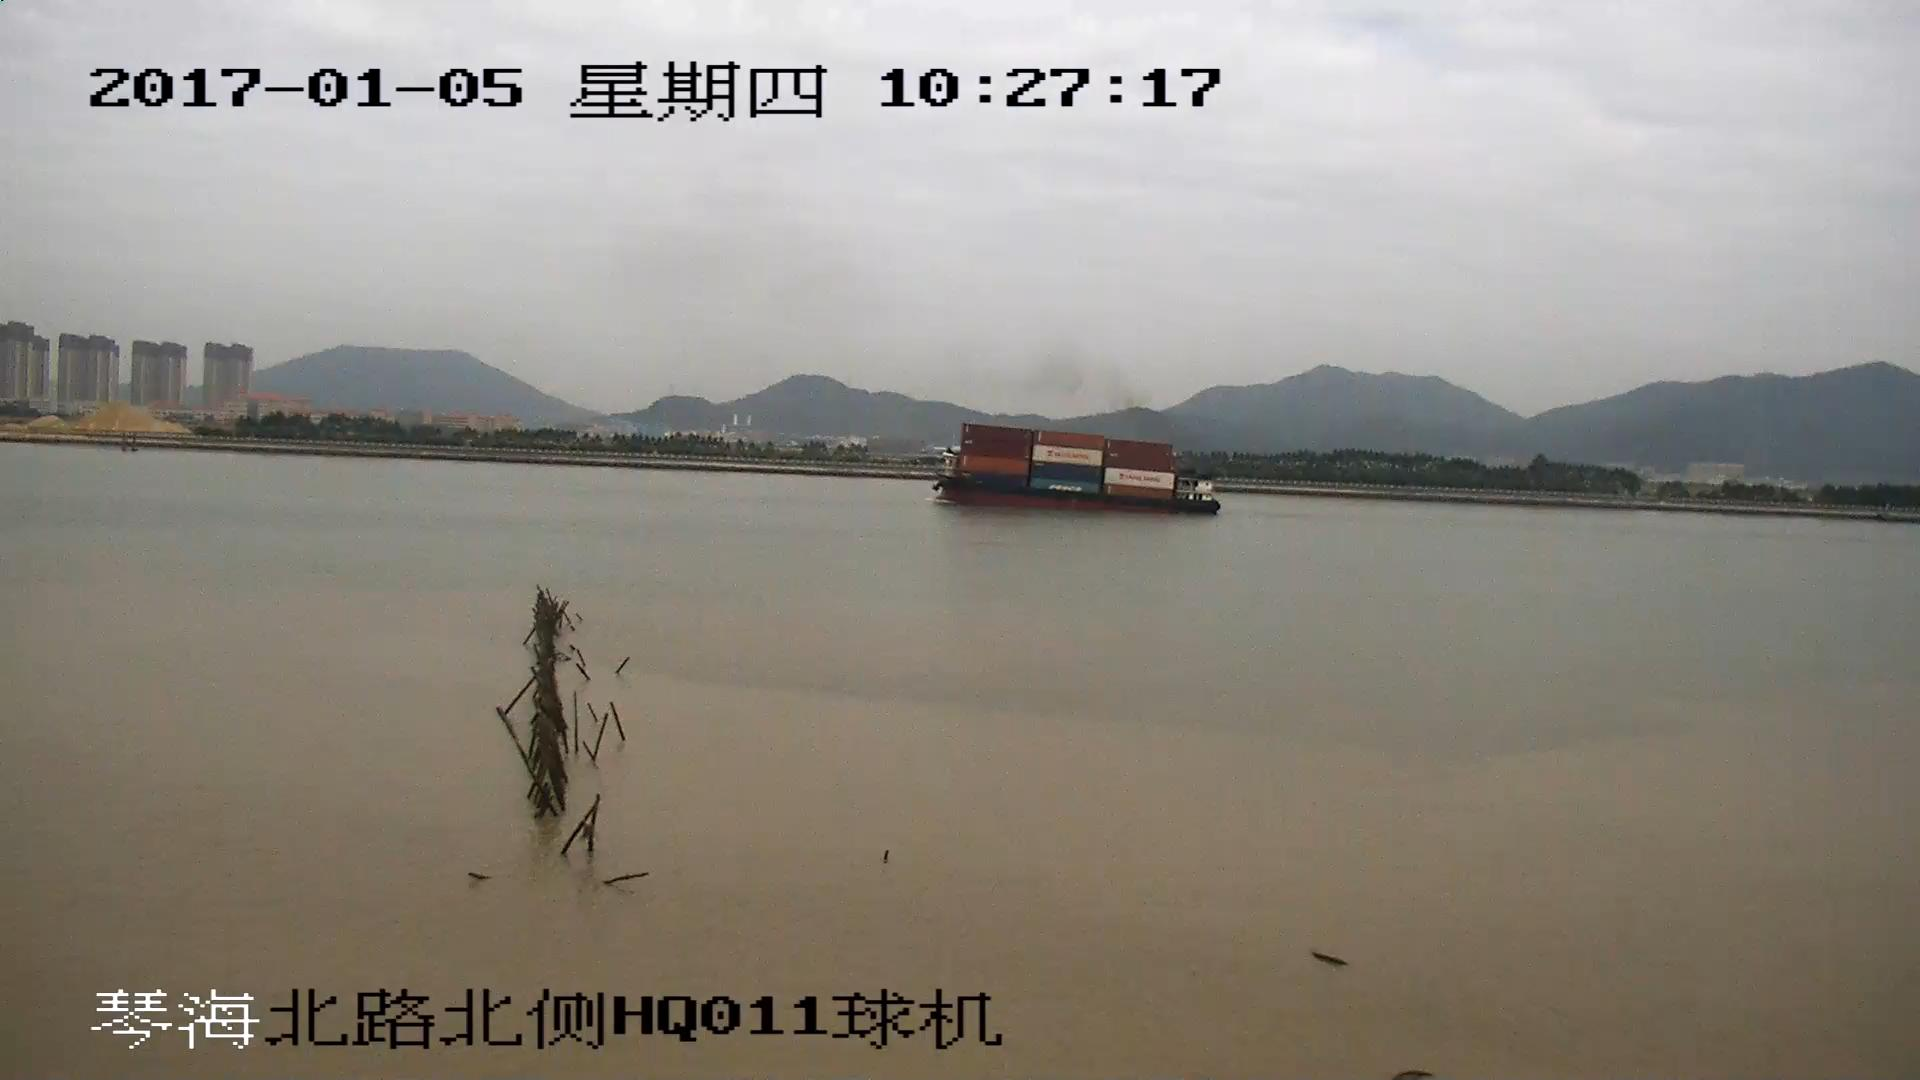container ship: (924, 423, 1217, 518)
